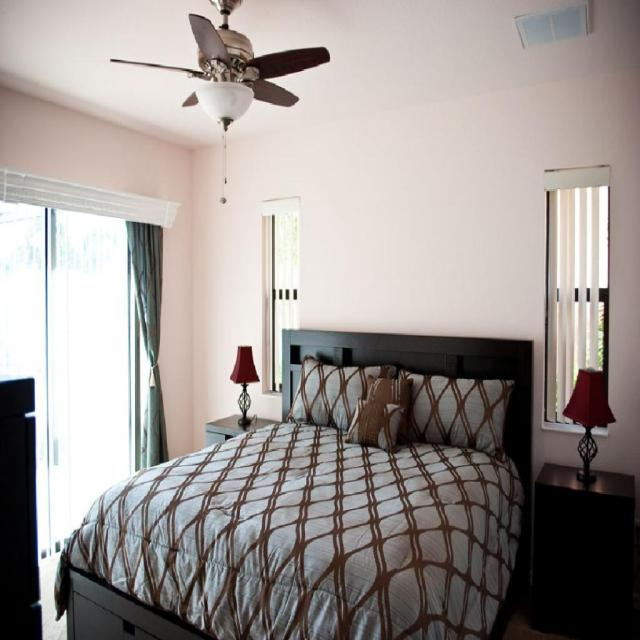Bulb: (111, 0, 327, 200)
